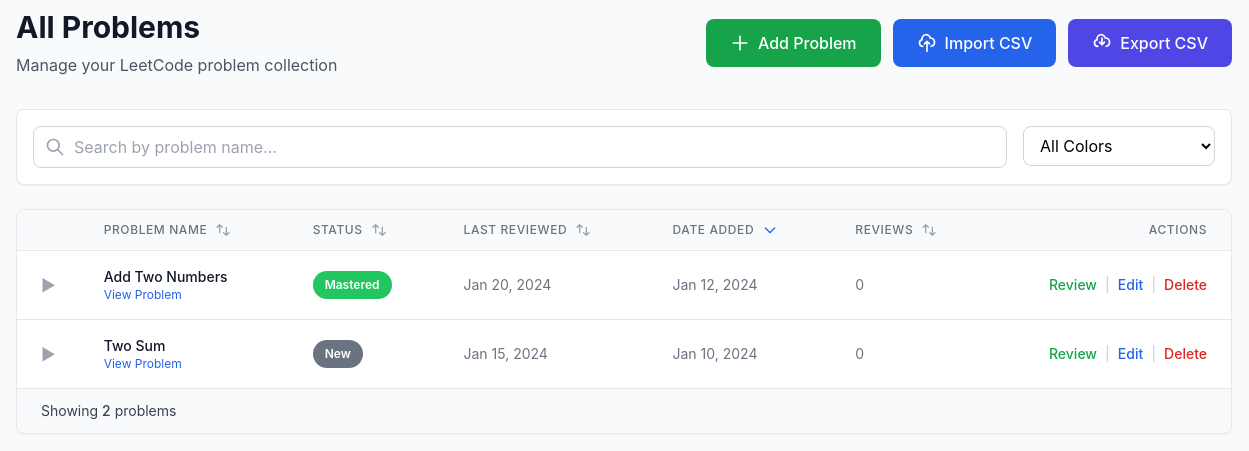
AllProblems › Filtering › should filter problems by color
Expected: the text "Two Sum" is shown, [104,337,165,354]
Step 1. Select "Mastered" in the dropdown named "filter by color" → (1119, 146), box [1023,126,1215,166]
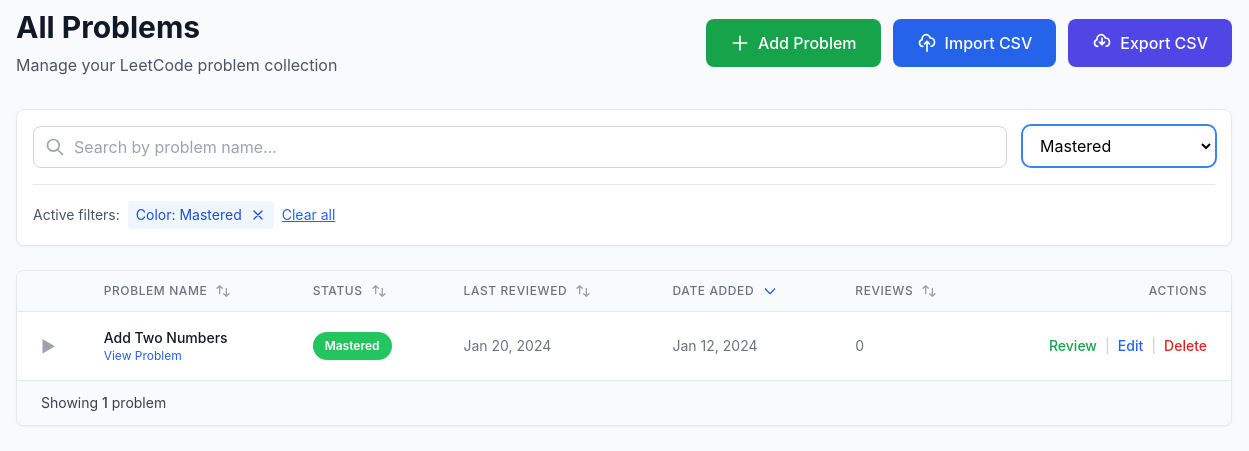
Expected: the text "Add Two Numbers" is shown, [104,329,228,346]
Expected: the text "Two Sum" is gone
